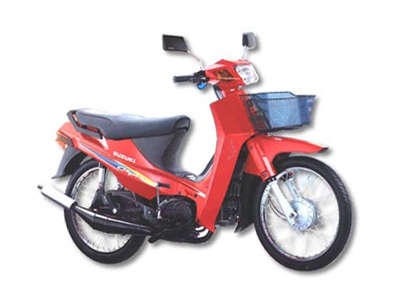motorcycle: (51, 56, 352, 270)
